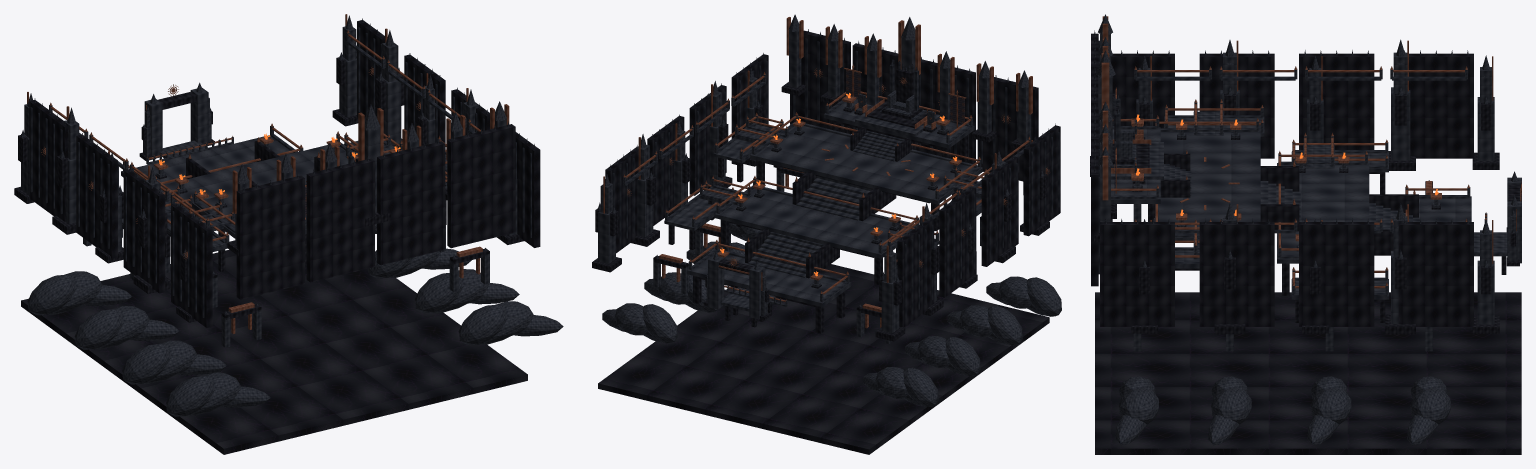
The model's file is dark-throne.glb.
3 renders of one model, left to right at view 1: azimuth 30°, elevation 25°; view 2: azimuth 150°, elevation 25°; view 3: azimuth 270°, elevation 25°, orthographic. The views are drawn at different scales.
Parts seen in each view (by area): view 1: Arena_Foundation, RearWall_3_Wall, RearWall_0_Wall, RearWall_1_Wall, RearWall_2_Wall, CathedralWall_-1_3_Wall, CathedralWall_-1_1_Wall, CathedralWall_-1_2_Wall, CathedralWall_-1_0_Wall, IntermediateTerrace_Deck, CathedralWall_1_3_Wall, LowerTerrace_Deck (+26 smaller); view 2: Arena_Foundation, UpperTerrace_Deck, IntermediateTerrace_Deck, CathedralWall_-1_1_Wall, CathedralWall_-1_2_Wall, CathedralWall_-1_3_Wall, CathedralWall_-1_0_Wall, RearWall_3_Wall, LowerTerrace_Deck, RearWall_0_Wall, RearWall_1_Wall, CathedralWall_1_0_Wall (+37 smaller); view 3: Arena_Foundation, CathedralWall_1_1_Wall, CathedralWall_1_0_Wall, CathedralWall_1_3_Wall, CathedralWall_1_2_Wall, UpperTerrace_Deck, CathedralWall_-1_0_Wall, CathedralWall_-1_1_Wall, IntermediateTerrace_Deck, CathedralWall_-1_2_Wall, CathedralWall_-1_3_Wall, LowerTerrace_Deck (+33 smaller).
Part boxes in pixels (x1,y1,x2,y2): Arena_Foundation: (21, 249, 527, 454); RearWall_3_Wall: (447, 124, 515, 248); RearWall_0_Wall: (236, 175, 304, 299); RearWall_1_Wall: (306, 158, 374, 282); RearWall_2_Wall: (377, 141, 445, 265); CathedralWall_-1_3_Wall: (171, 204, 212, 327); CathedralWall_-1_1_Wall: (76, 134, 117, 258); CathedralWall_-1_2_Wall: (123, 169, 165, 293); CathedralWall_-1_0_Wall: (29, 100, 67, 221); IntermediateTerrace_Deck: (161, 145, 348, 210); CathedralWall_1_3_Wall: (515, 132, 540, 247); LowerTerrace_Deck: (121, 135, 293, 184); Arena_Foundation: (598, 264, 1049, 454); UpperTerrace_Deck: (750, 126, 982, 204); IntermediateTerrace_Deck: (714, 188, 910, 258); CathedralWall_-1_1_Wall: (939, 187, 976, 297); CathedralWall_-1_2_Wall: (981, 156, 1018, 266); CathedralWall_-1_3_Wall: (1023, 125, 1060, 236); CathedralWall_-1_0_Wall: (897, 218, 934, 327); RearWall_3_Wall: (790, 30, 850, 134); LowerTerrace_Deck: (687, 251, 851, 307); RearWall_0_Wall: (977, 77, 1038, 181); RearWall_1_Wall: (915, 59, 975, 163); CathedralWall_1_0_Wall: (605, 147, 638, 253); Arena_Foundation: (1095, 292, 1521, 454); CathedralWall_1_1_Wall: (1299, 222, 1374, 326); CathedralWall_1_0_Wall: (1398, 222, 1473, 326); CathedralWall_1_3_Wall: (1100, 222, 1174, 326); CathedralWall_1_2_Wall: (1199, 222, 1274, 326); UpperTerrace_Deck: (1154, 130, 1260, 240); CathedralWall_-1_0_Wall: (1409, 53, 1473, 158); CathedralWall_-1_1_Wall: (1299, 53, 1374, 149); IntermediateTerrace_Deck: (1277, 163, 1369, 263); CathedralWall_-1_2_Wall: (1199, 53, 1274, 158); CathedralWall_-1_3_Wall: (1111, 53, 1174, 128); LowerTerrace_Deck: (1419, 196, 1471, 221).
Size of the model in its own units: 66 by 50.69 by 60.7.
5 materials, 5 textured.
